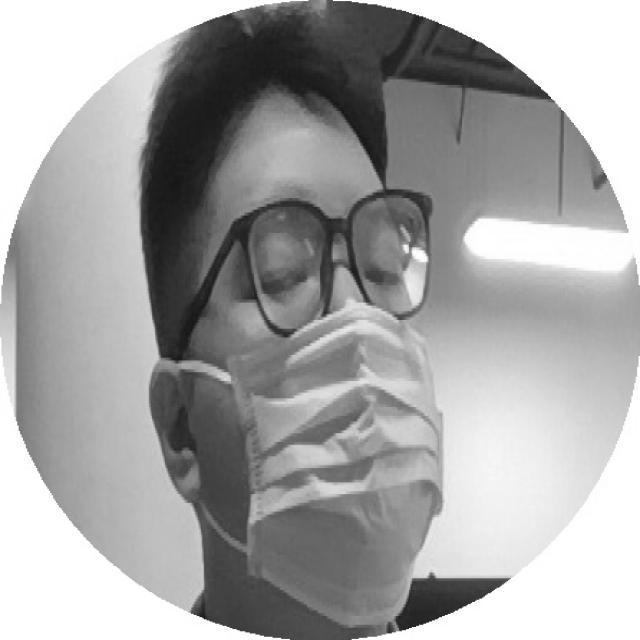fake: (237, 301, 450, 638)
real: (221, 185, 441, 316)
